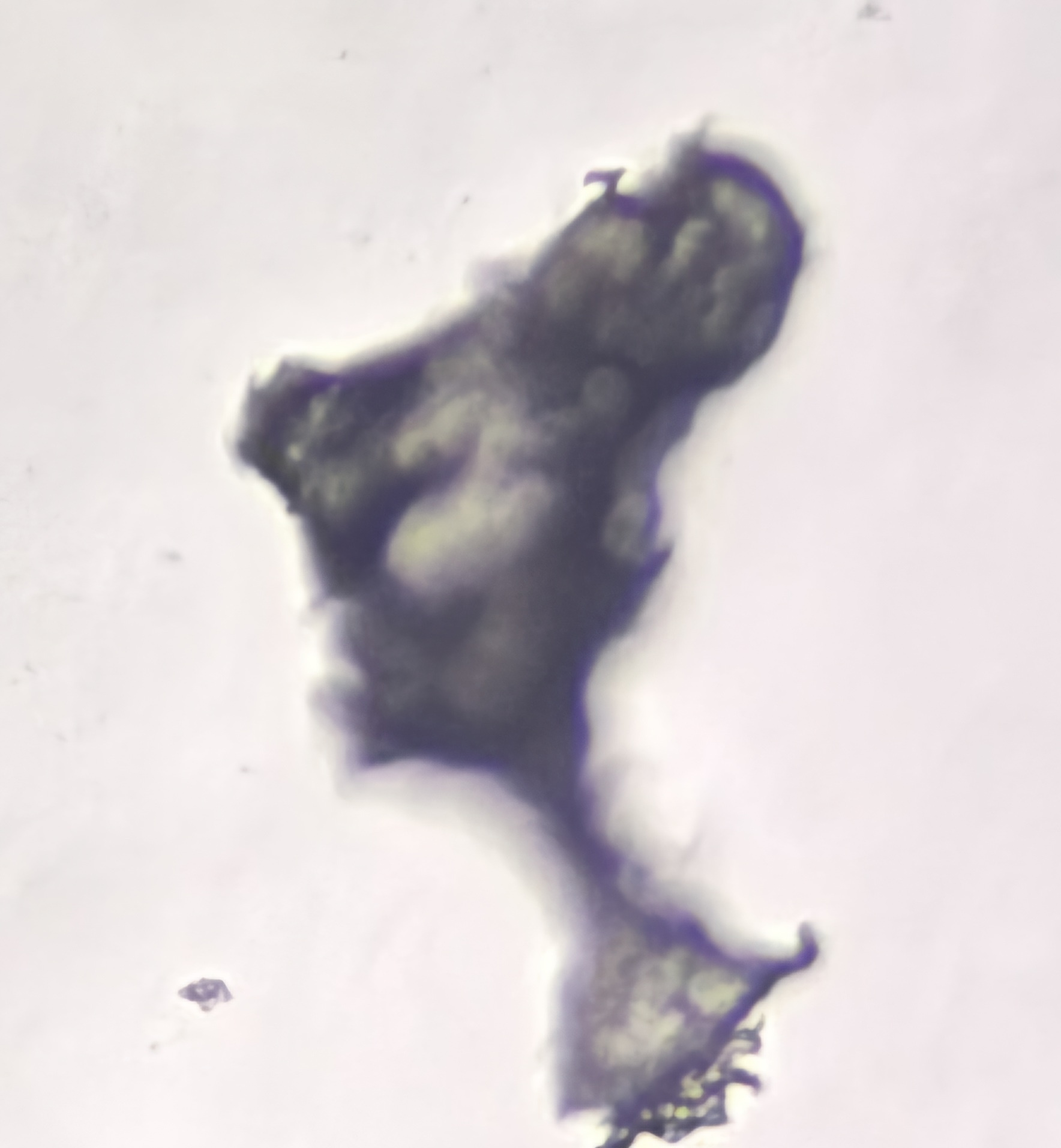microplastic: (232, 118, 823, 1148), (178, 978, 236, 1014)
